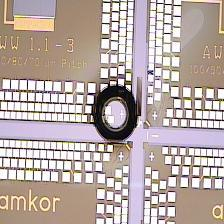PARTICLE: (90, 84, 141, 146)
